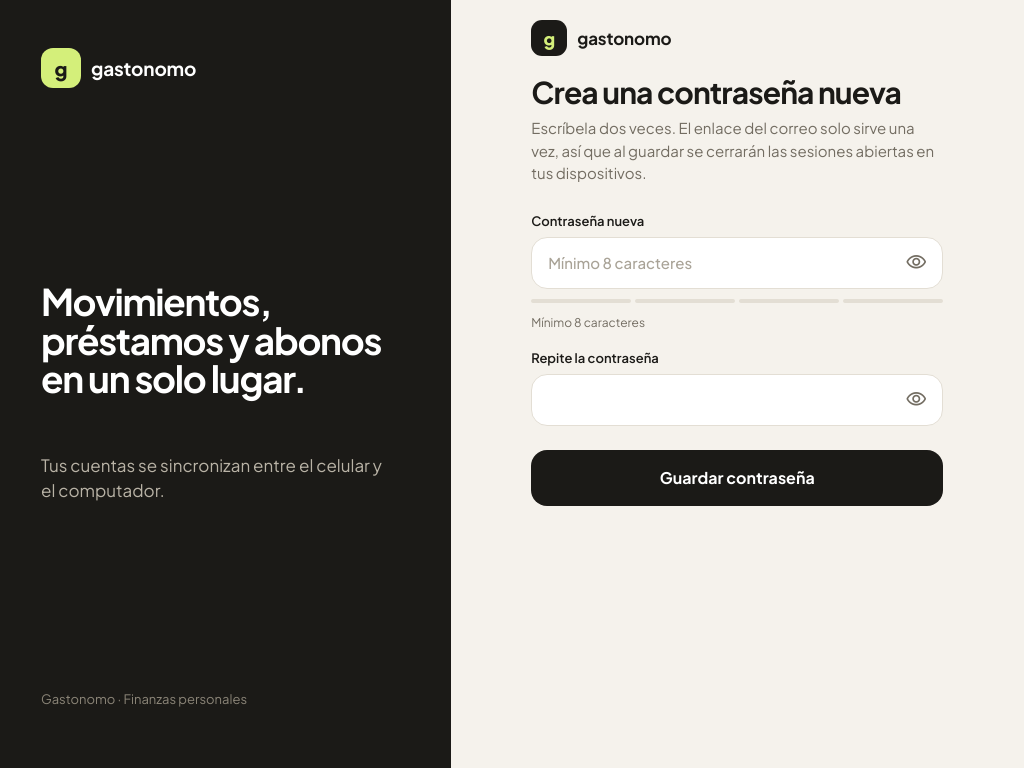
it: la pantalla de restablecer contrasena › con cualquier otro fallo el formulario se queda, para reintentar
Type "contrasena9" into the password field labelled "Contraseña nueva" at (737, 262), box [531,236,943,288]
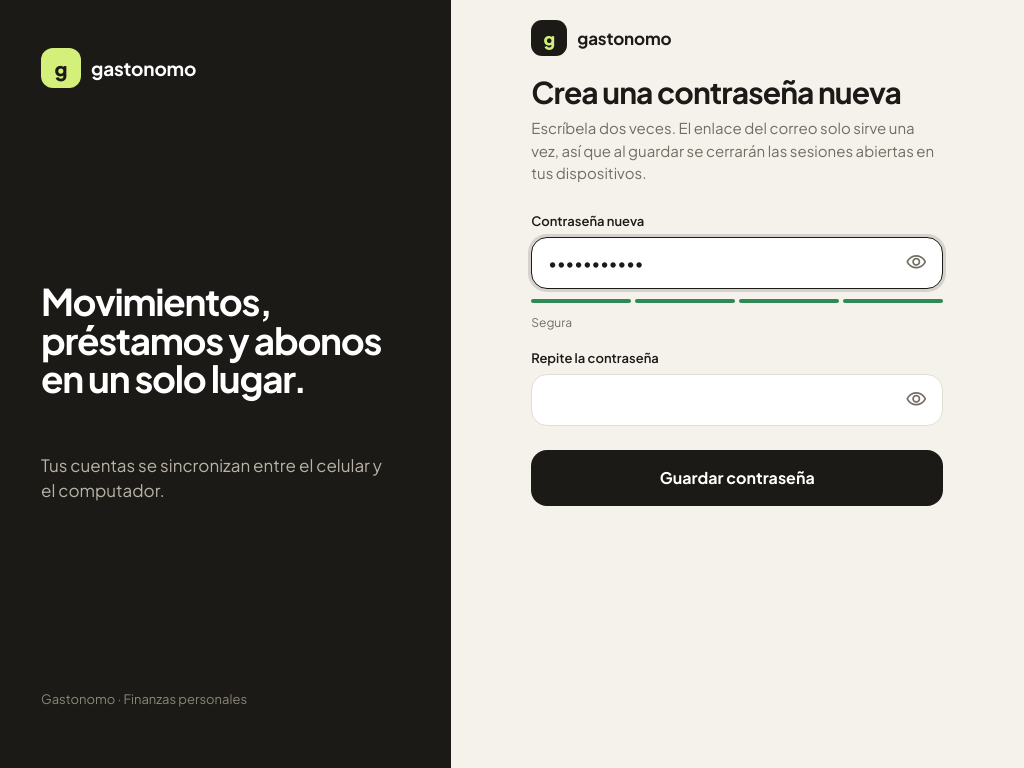
Type "contrasena9" into the password field labelled "Repite la contraseña" at (737, 400), box [531,374,943,426]
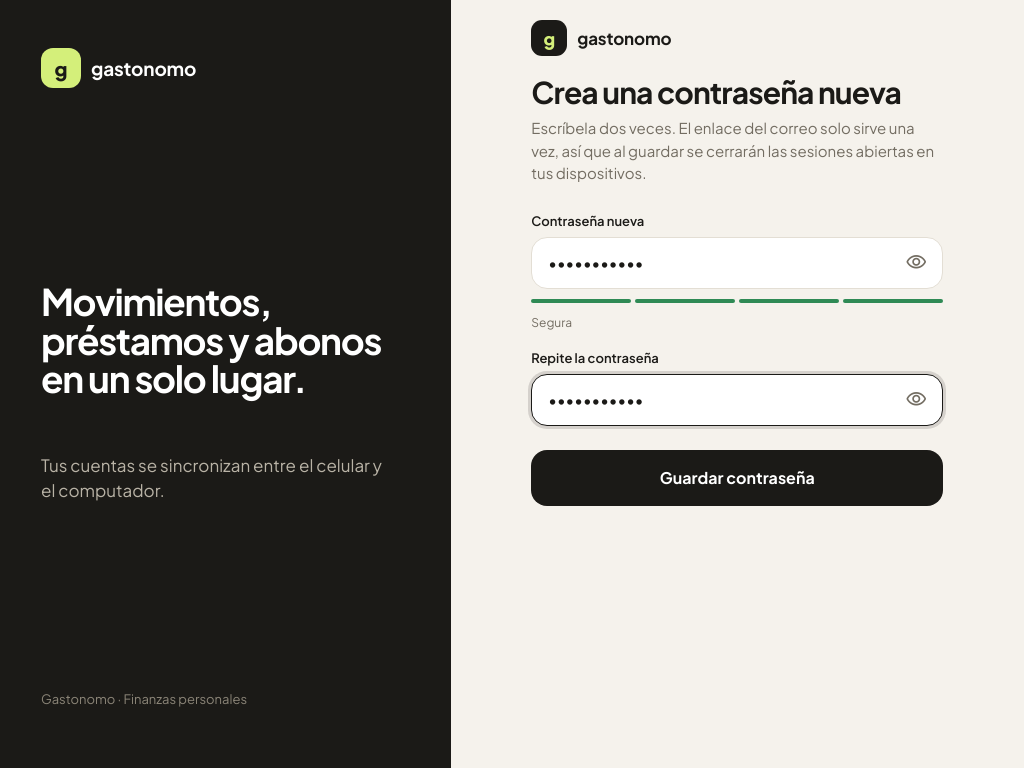
Click the button "Guardar contraseña" at (737, 478), box [531,450,943,506]
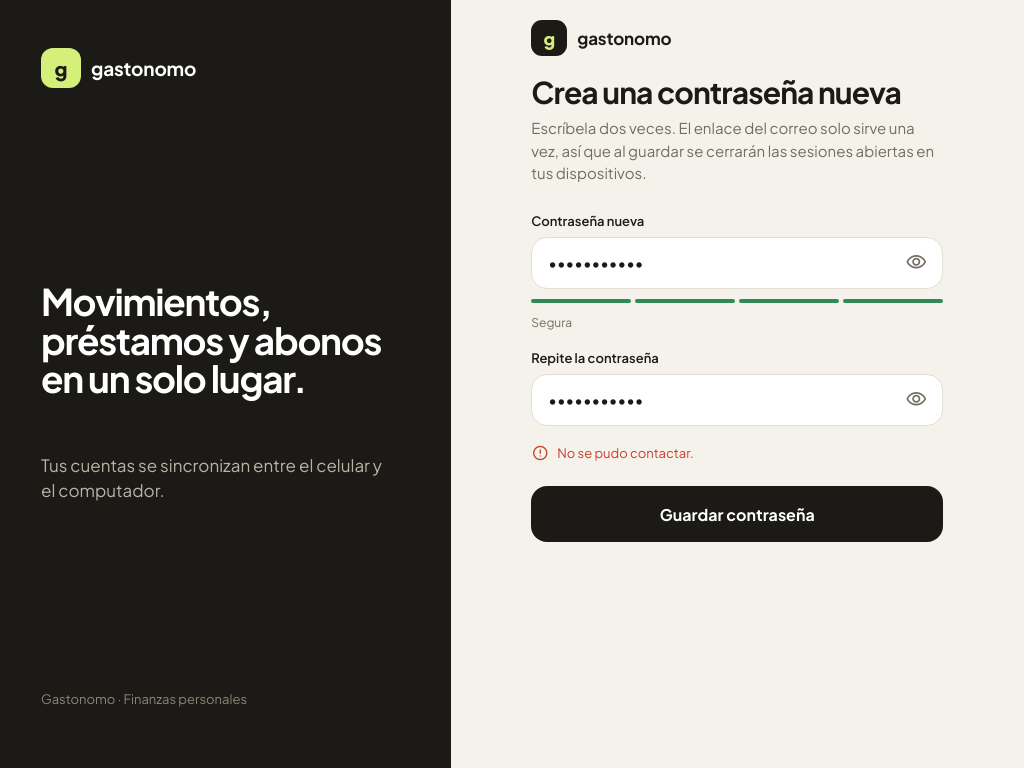
Check: the text "No se pudo contactar." is shown, box [557,444,694,462]
